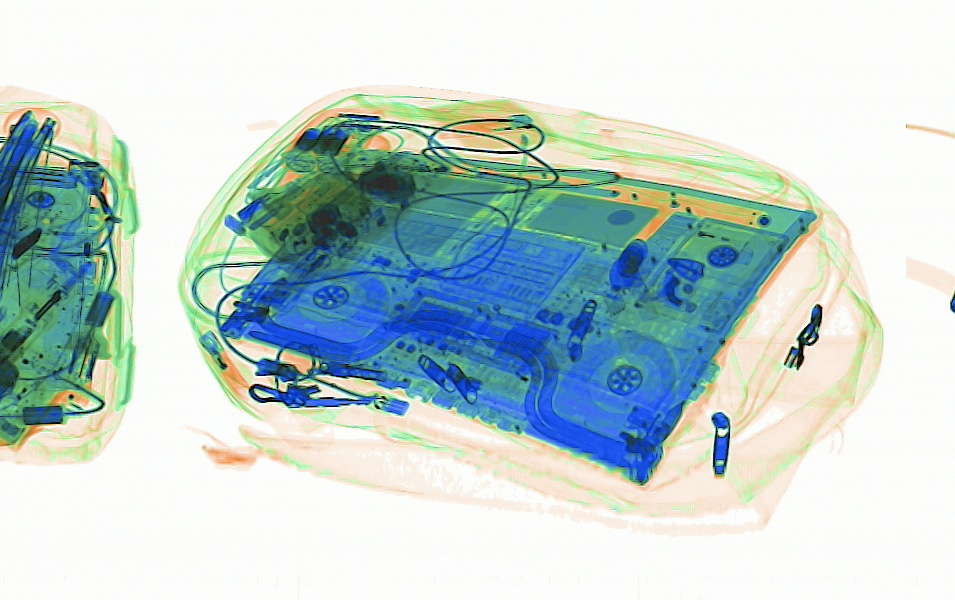lighter: (197, 327, 248, 402)
